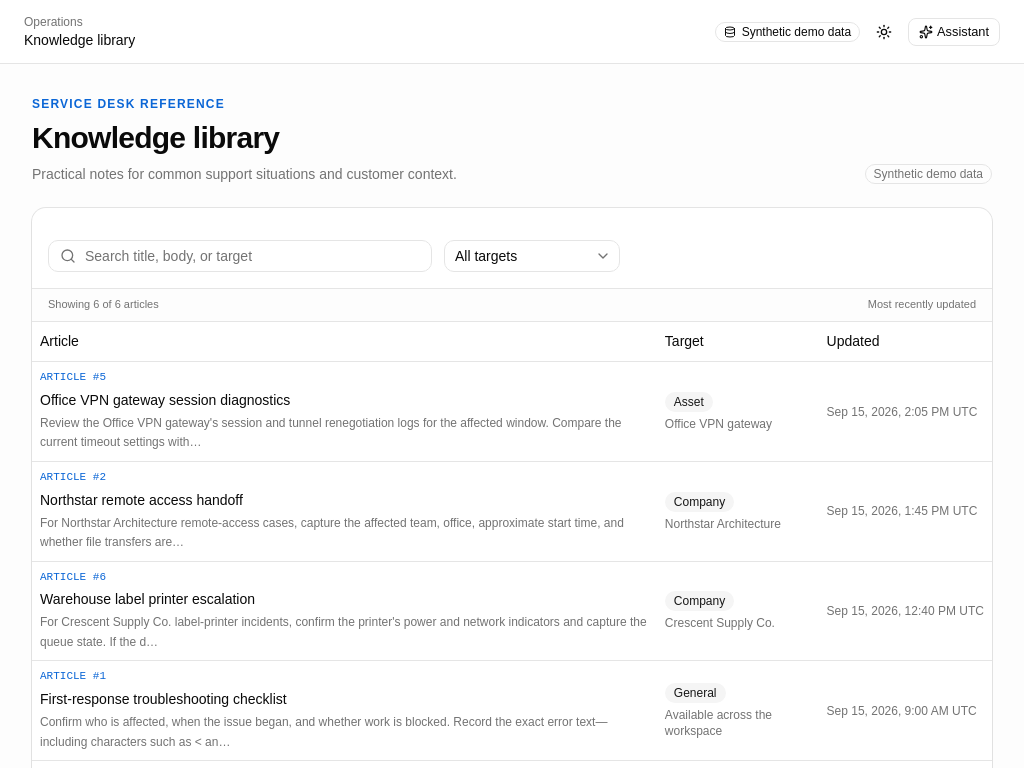
Test: knowledge article routes › searches ID, title, body, and target name with a clear no-results state
Type "5" into the field named "Search knowledge articles" at coordinates (240, 256), box [48,240,432,272]
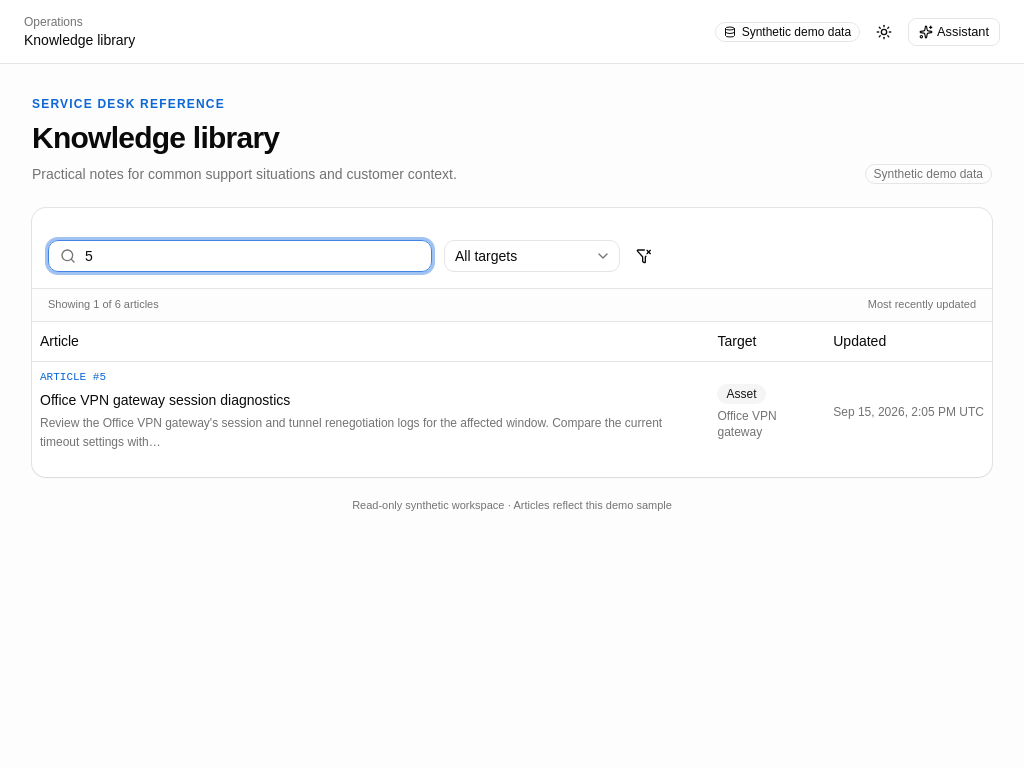
Check: the link with aria-label "Open article #5: Office VPN gateway session diagnostics" is shown, box [40,390,290,410]
Replace the text in the field named "Search knowledge articles" with "session diagnostics" at coordinates (240, 256), box [48,240,432,272]
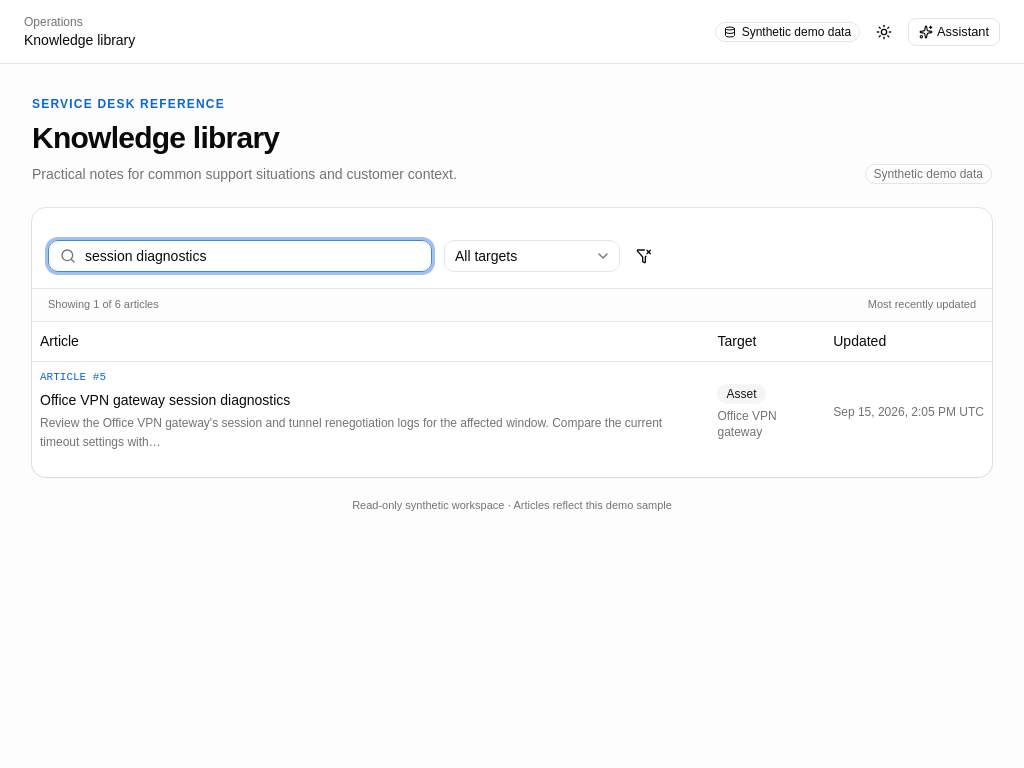
Check: the link with aria-label "Open article #5: Office VPN gateway session diagnostics" is shown, box [40,390,290,410]
Replace the text in the field named "Search knowledge articles" with "tunnel renegotiation" at coordinates (240, 256), box [48,240,432,272]
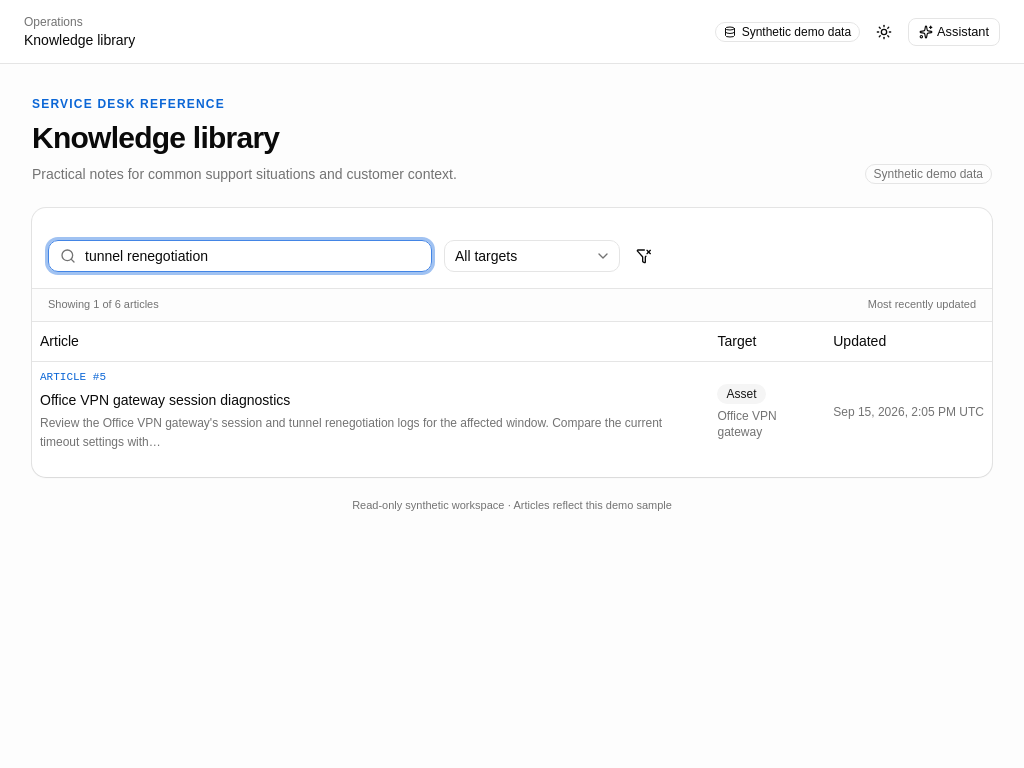
Check: the link with aria-label "Open article #5: Office VPN gateway session diagnostics" is shown, box [40,390,290,410]
Replace the text in the field named "Search knowledge articles" with "Office VPN gateway" at coordinates (240, 256), box [48,240,432,272]
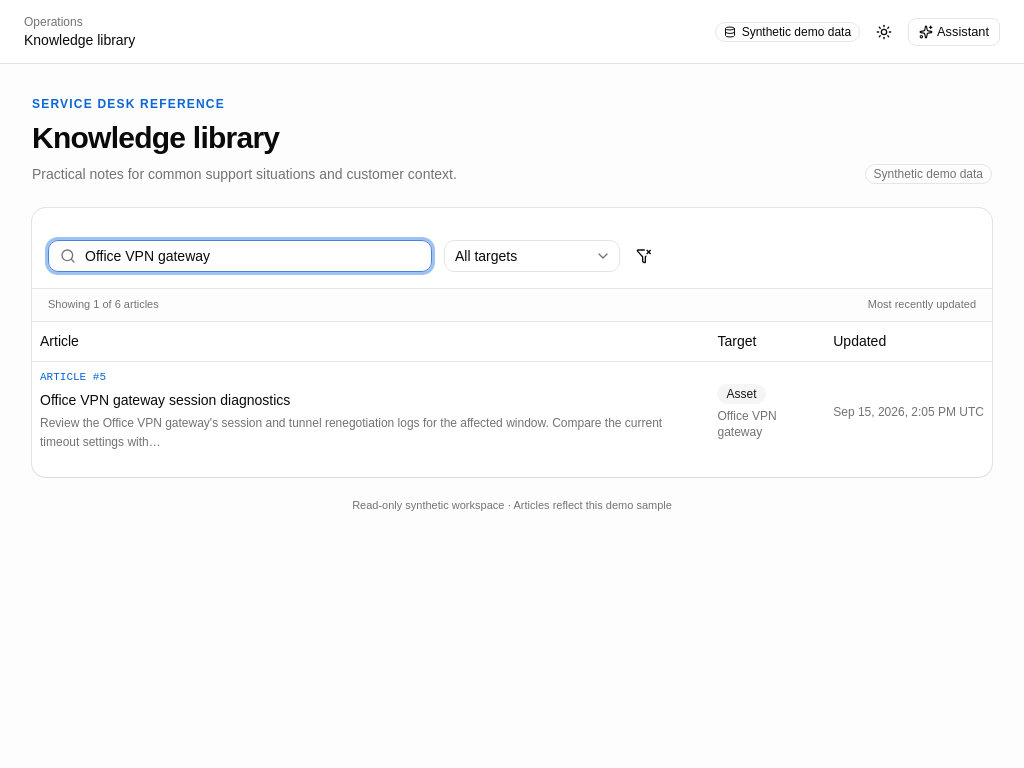
Check: the link with aria-label "Open article #5: Office VPN gateway session diagnostics" is shown, box [40,390,290,410]
Replace the text in the field named "Search knowledge articles" with "not in this library" at coordinates (240, 256), box [48,240,432,272]
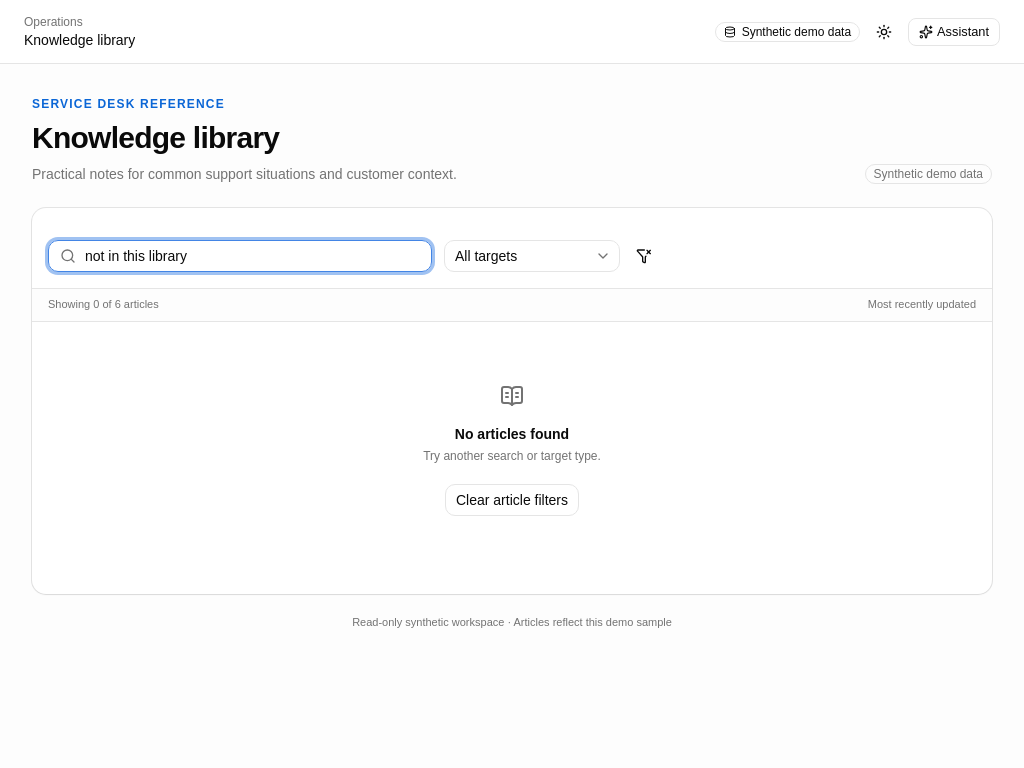
Check: the heading "No articles found" is shown, box [455,424,569,444]
Click the button "Clear article filters" at coordinates (512, 500), box [445,484,579,516]
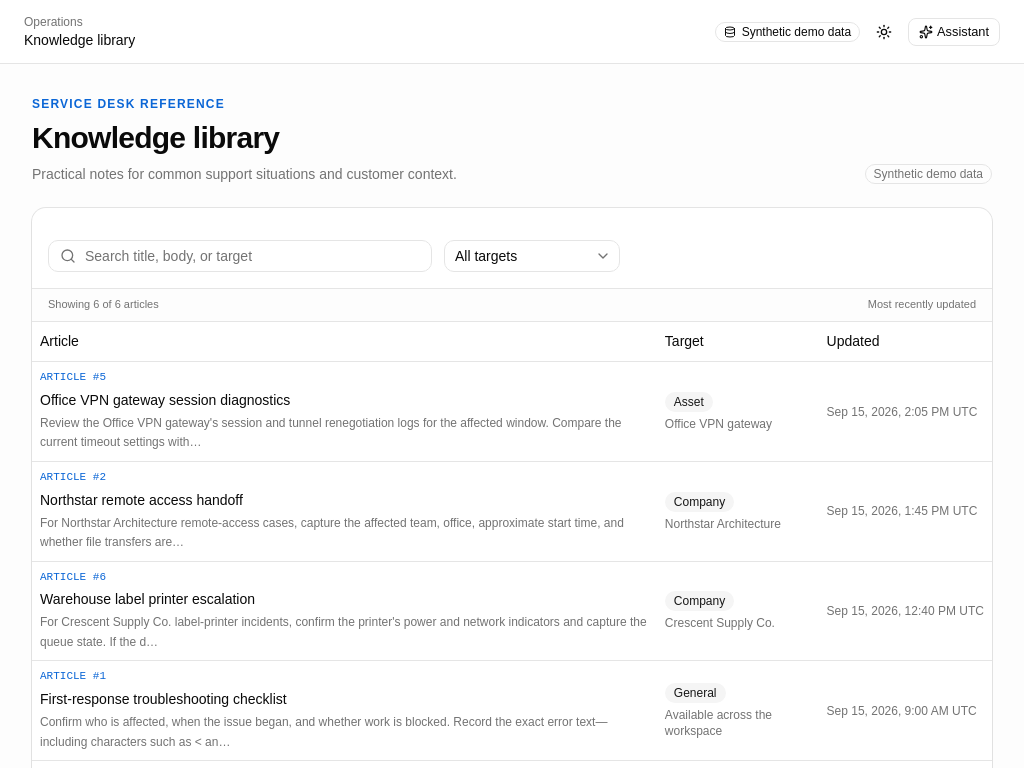
Check: the text "Showing 6 of 6 articles" is shown, box [48,297,159,313]
